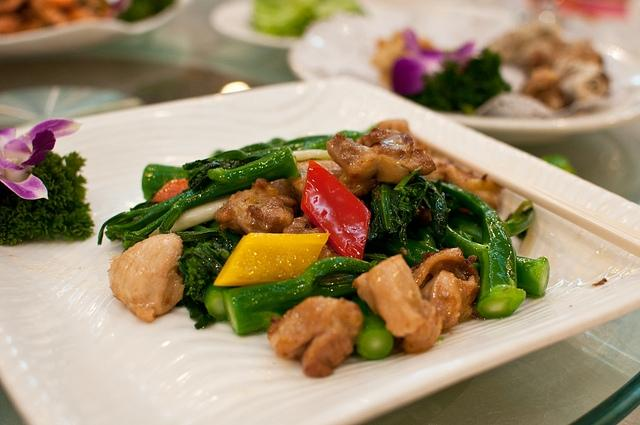bell pepper: (300, 159, 372, 261), (213, 233, 331, 286)
